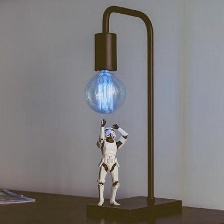light_bulb: (81, 66, 129, 118)
